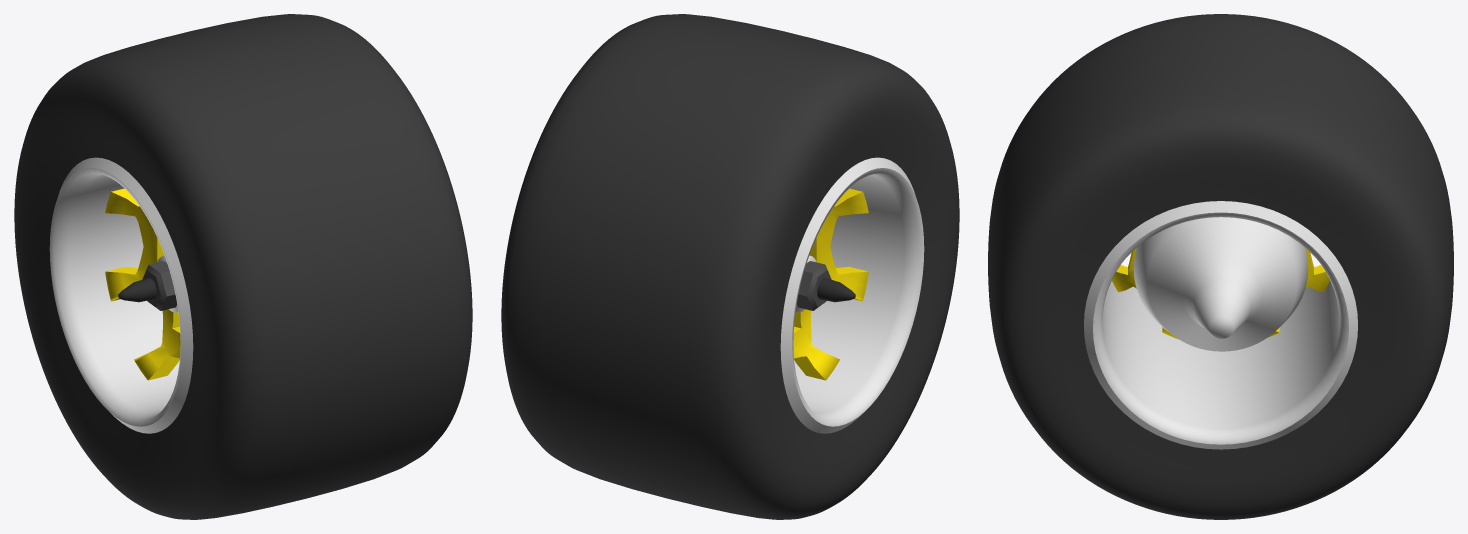
The model's file is voxtekwhel.fbx.
The picture shows the model from 3 angles, left to right: view 1: azimuth 30°, elevation 25°; view 2: azimuth 150°, elevation 25°; view 3: azimuth 270°, elevation 25°; orthographic projection. The views are drawn at different scales.
Parts seen in each view (by area): view 1: Bolts.002; view 2: Bolts.002; view 3: Bolts.002.
Boxes of the visible parts, x1,y1,x2,y2 form: Bolts.002: [14, 14, 472, 519]; Bolts.002: [501, 14, 959, 519]; Bolts.002: [988, 14, 1453, 519].
Bounding box in the file's own units: 213 × 346 × 346.
